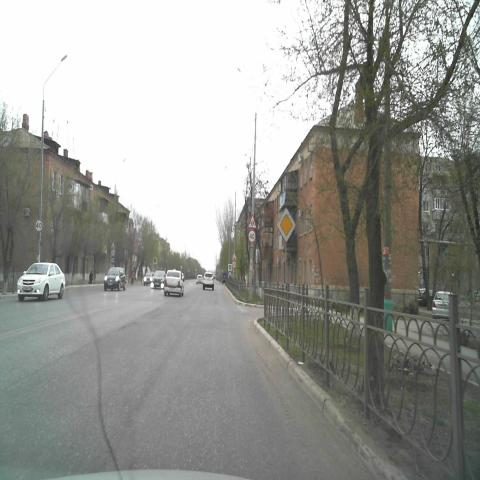3_24: (35, 217, 43, 234)
